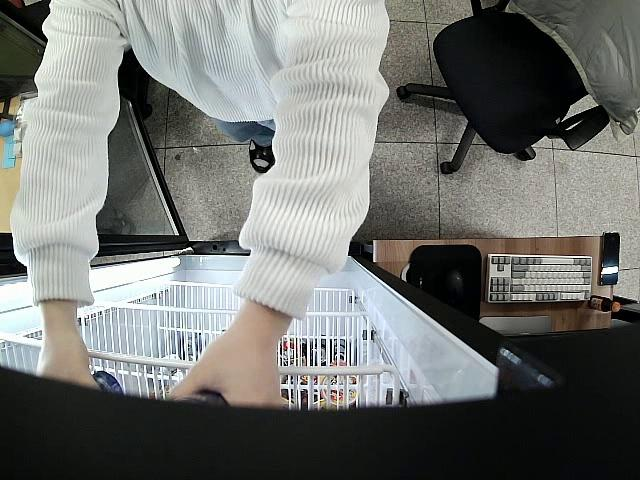16_hot6: (91, 369, 131, 401)
